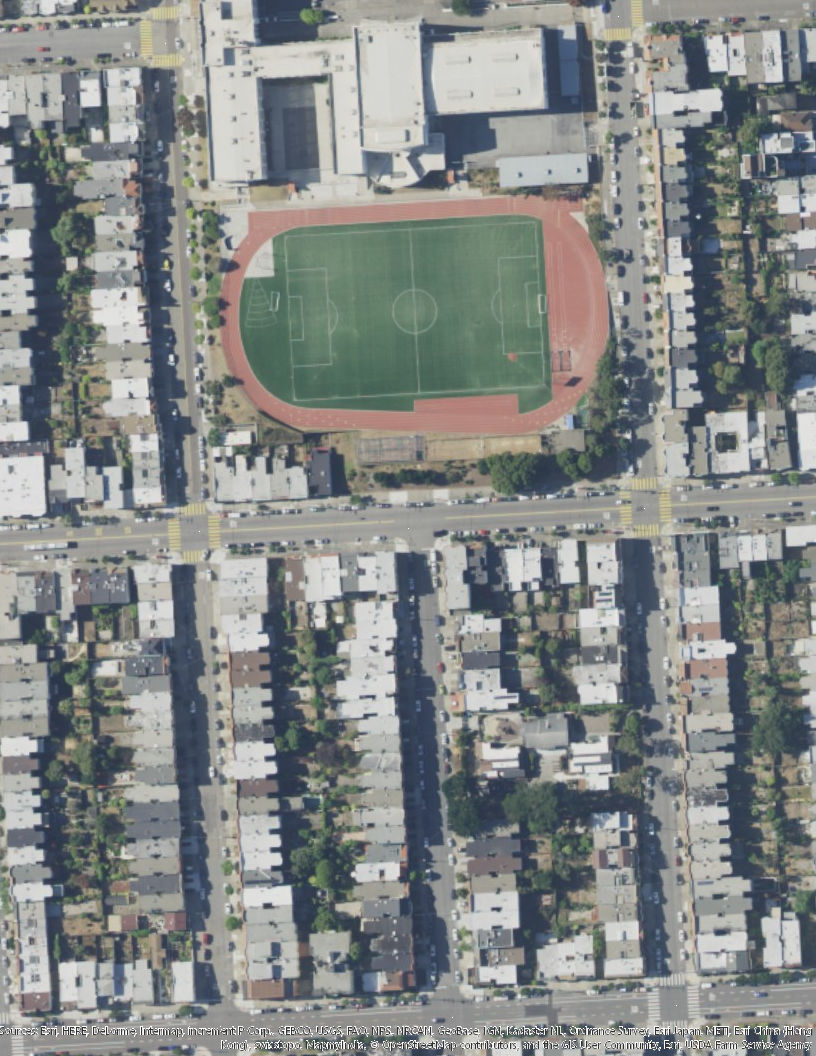zebracross: (139, 20, 154, 58), (618, 490, 633, 524), (628, 1, 646, 29), (657, 492, 673, 523), (168, 519, 182, 553), (152, 6, 180, 22), (603, 26, 632, 41), (180, 503, 208, 518), (208, 517, 221, 549), (152, 52, 180, 66), (633, 523, 659, 538), (633, 475, 657, 490), (184, 547, 206, 562)
